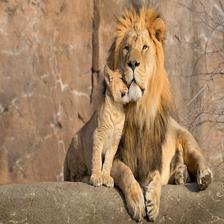Lion: (87, 10, 181, 200)
